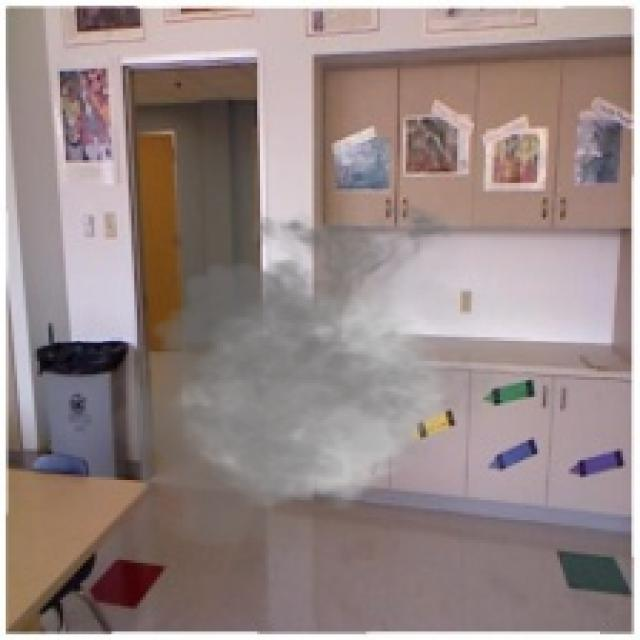smoke: (97, 191, 523, 560)
